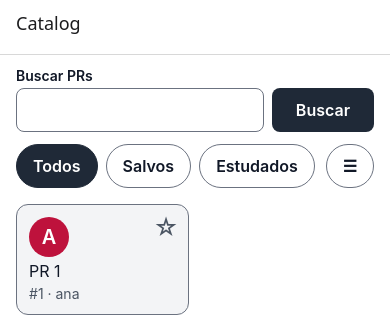
Test case: C65: in Salvos typing does not filter until Buscar
expect the button with test id "catalog.card.0" is shown: met, box [17, 205, 188, 314]
Click the button "Salvos" at (148, 166), box [106, 144, 191, 188]
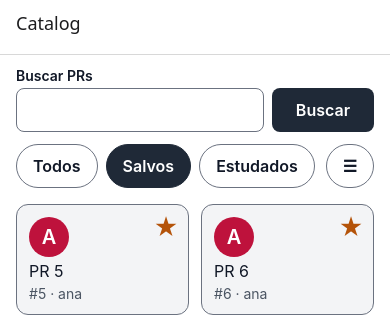
Type "6" into the field named "Buscar PRs" at (140, 110), box [16, 88, 264, 132]
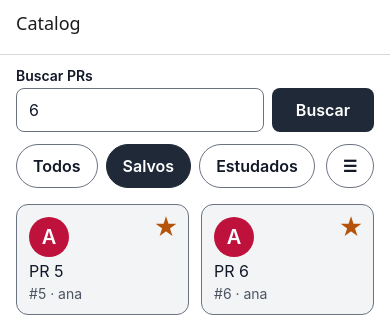
expect the text "PR 5" is shown: met, box [29, 261, 64, 281]
Click the button with test id "catalog.search-submit" at (323, 110), box [272, 88, 374, 132]
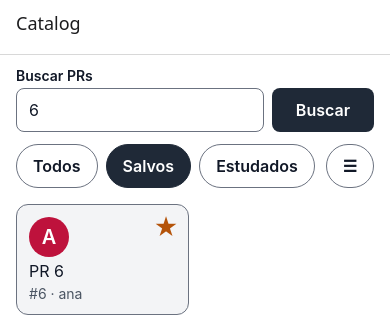
expect the text "PR 6" is shown: met, box [29, 261, 64, 281]
expect the button "PR 5" is gone: met
